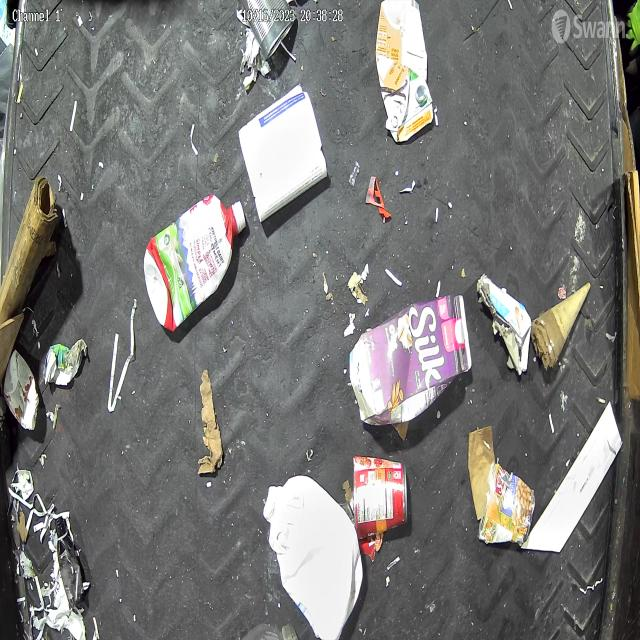can: (352, 451, 413, 547), (235, 0, 297, 63)
milk_jug: (265, 470, 367, 640)
